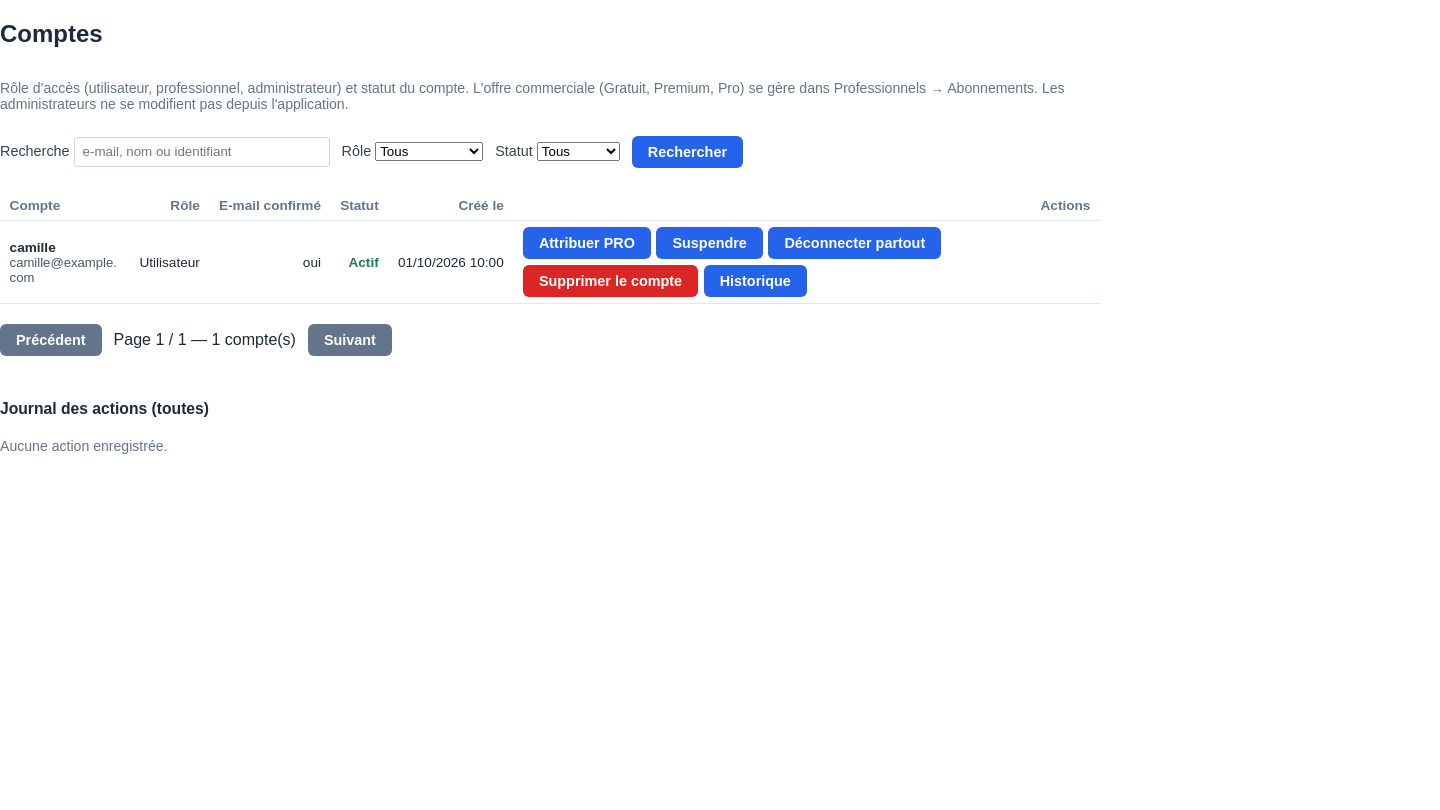
Test case: AdminAccountsSection › supprime un compte avec un motif et le mot de passe, et déconnecte partout
Click the button "Déconnecter partout": (855, 243) [768, 227, 941, 259]
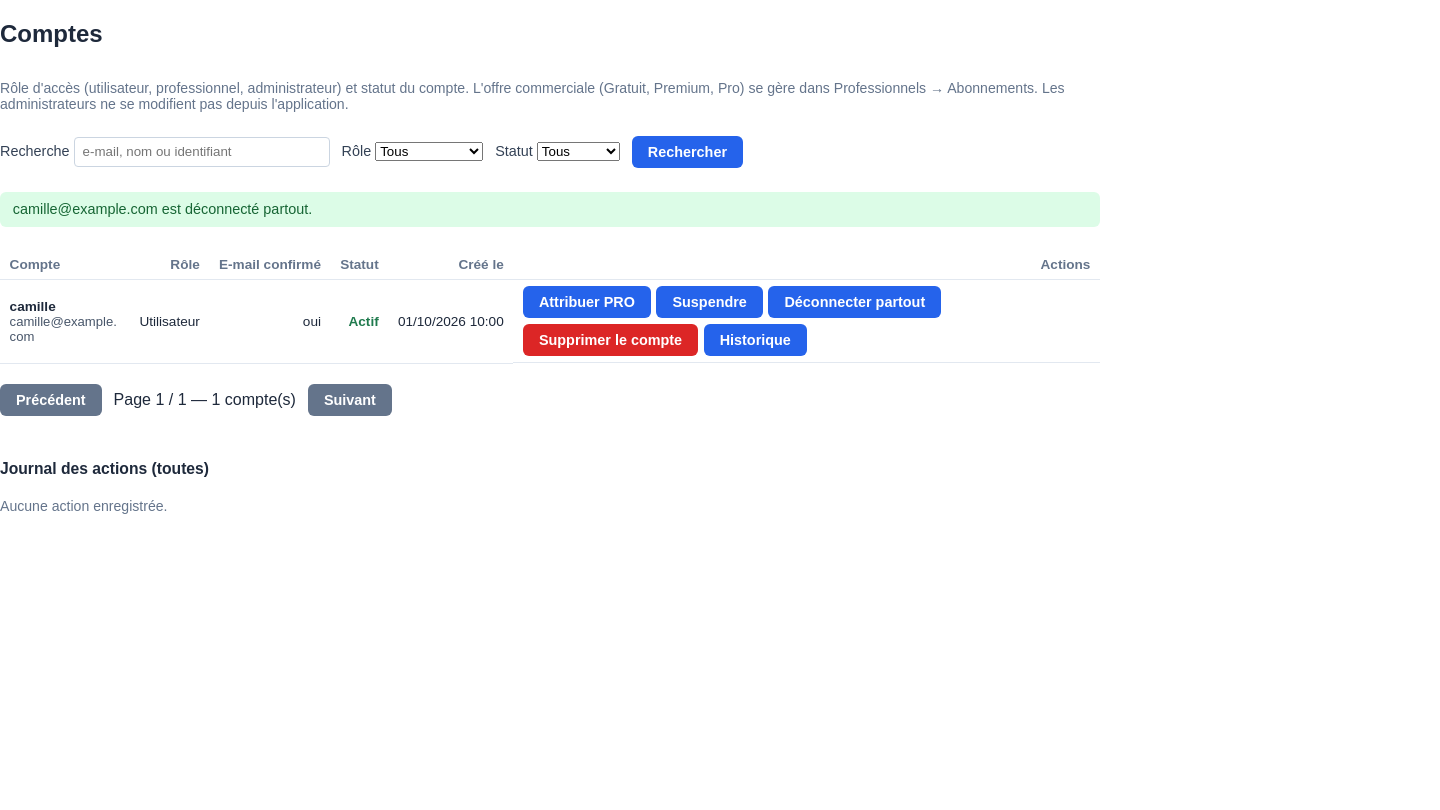
Now the text "camille@example.com est déconnecté partout." is shown, box [0, 192, 1100, 227]
Click the button "Supprimer le compte": (610, 340) [523, 324, 698, 356]
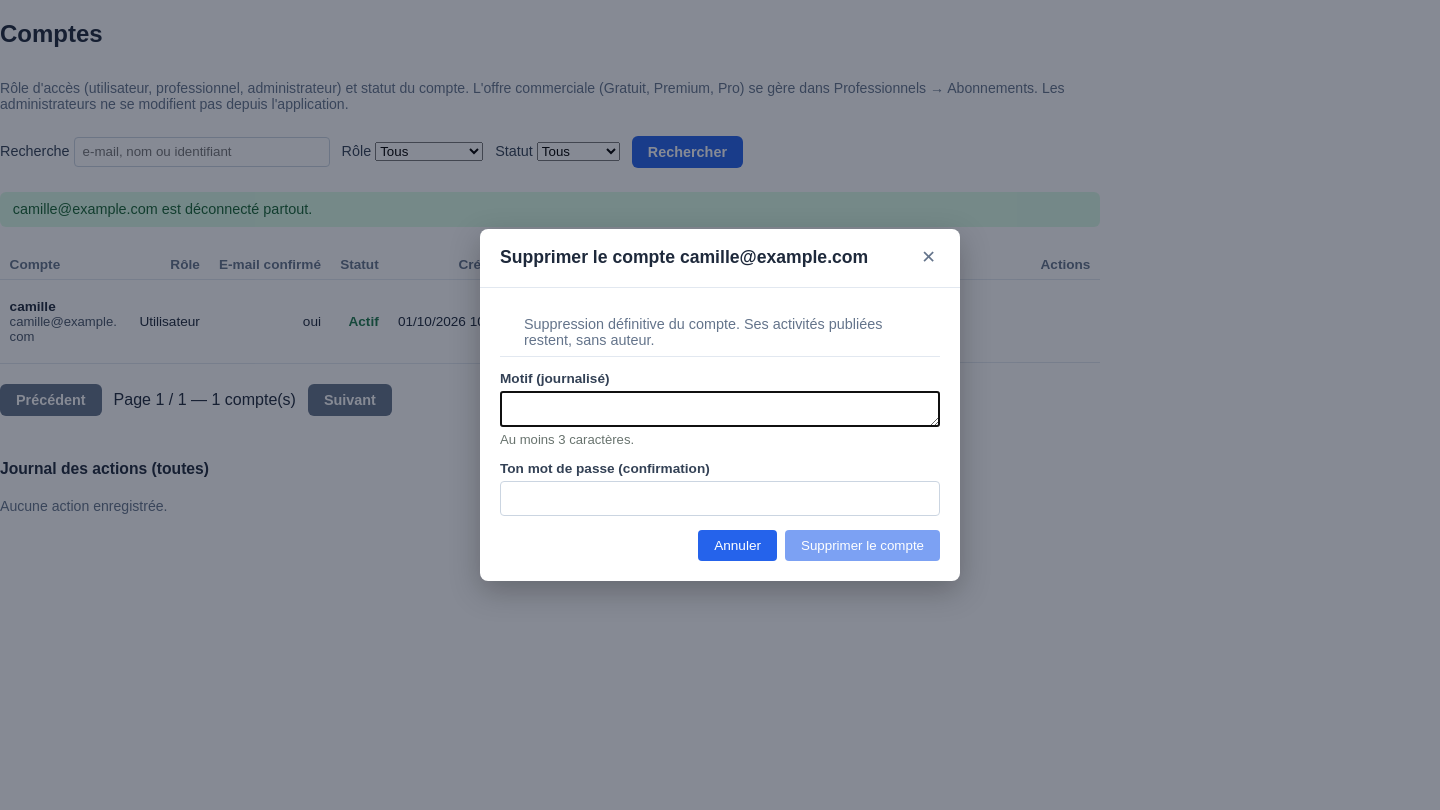
In the text box labelled "Motif (journalisé)": (720, 409) [500, 391, 940, 427], type "ok"
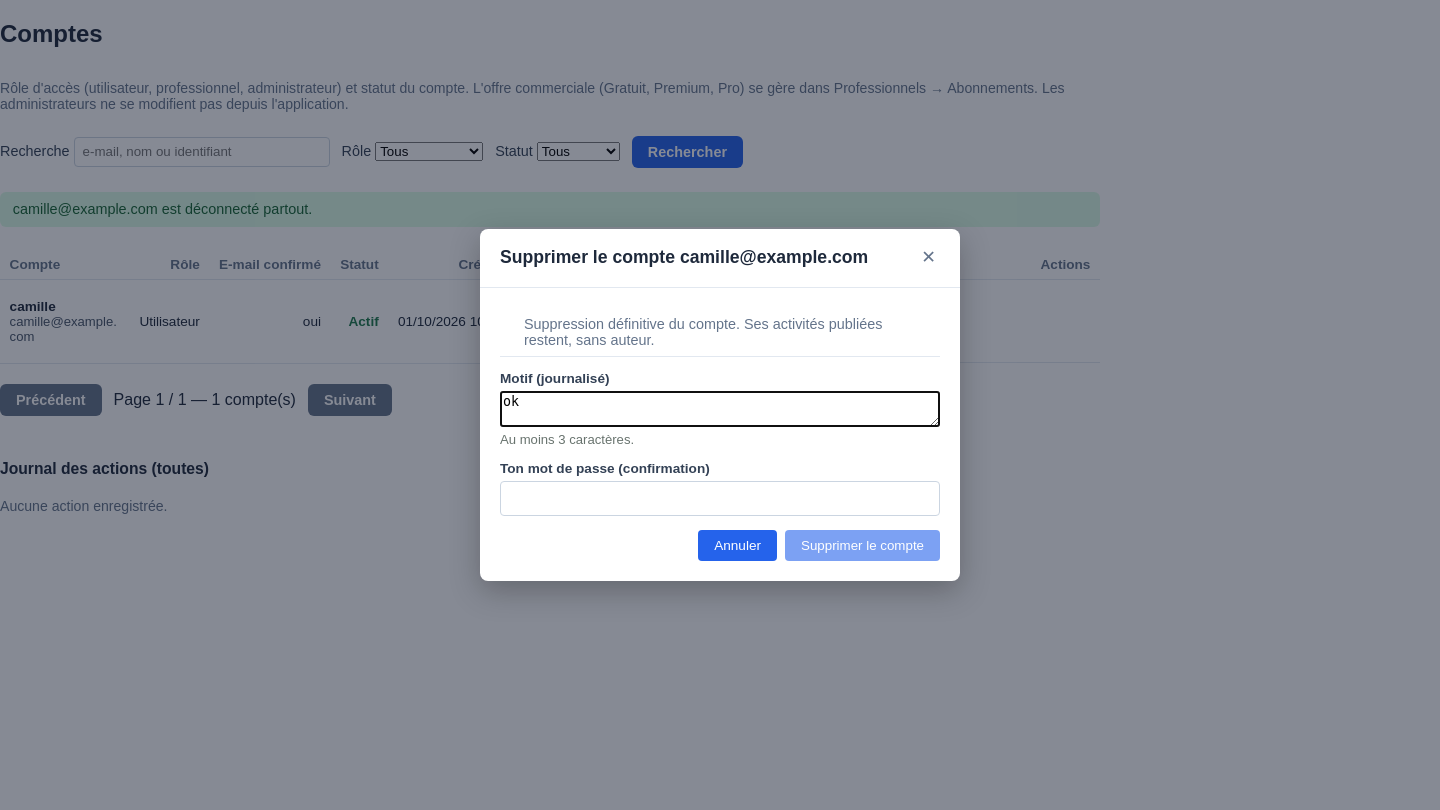
In the password field labelled "Ton mot de passe (confirmation)": (720, 498) [500, 481, 940, 516], type "secret-admin"
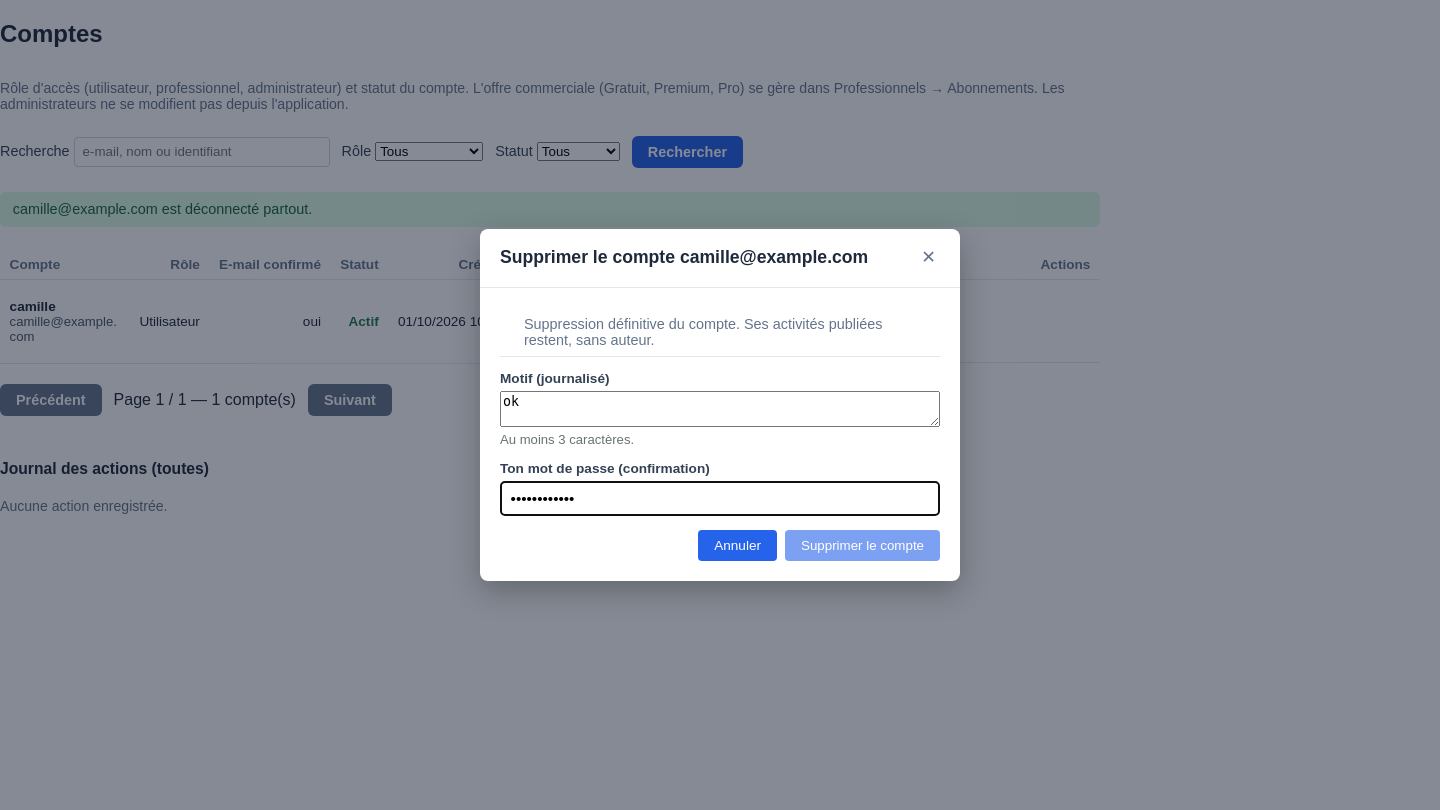
Now the button "Supprimer le compte" is disabled, box [785, 530, 940, 561]
In the text box labelled "Motif (journalisé)": (720, 409) [500, 391, 940, 427], type " fraude"
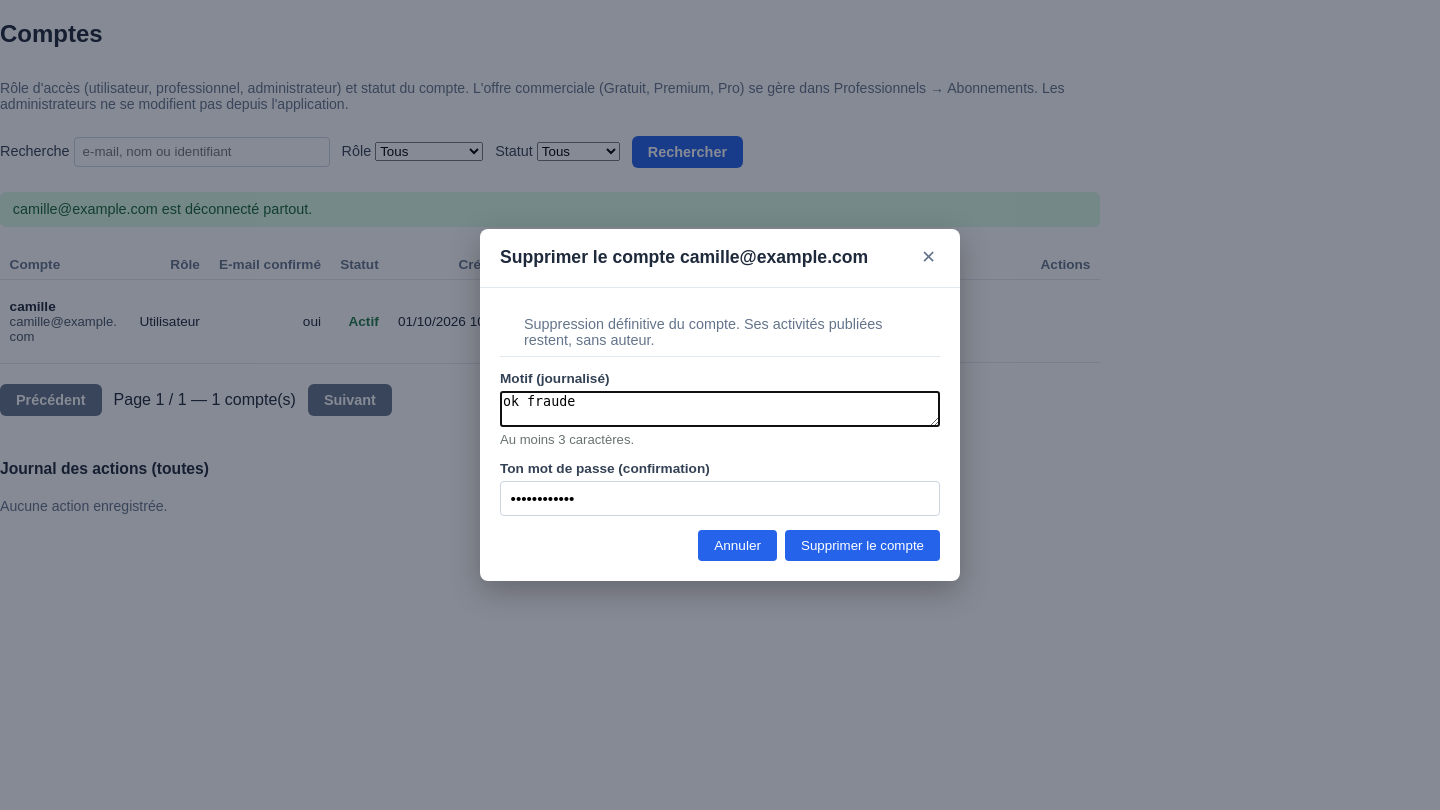
Click the button "Supprimer le compte": (862, 546) [785, 530, 940, 561]
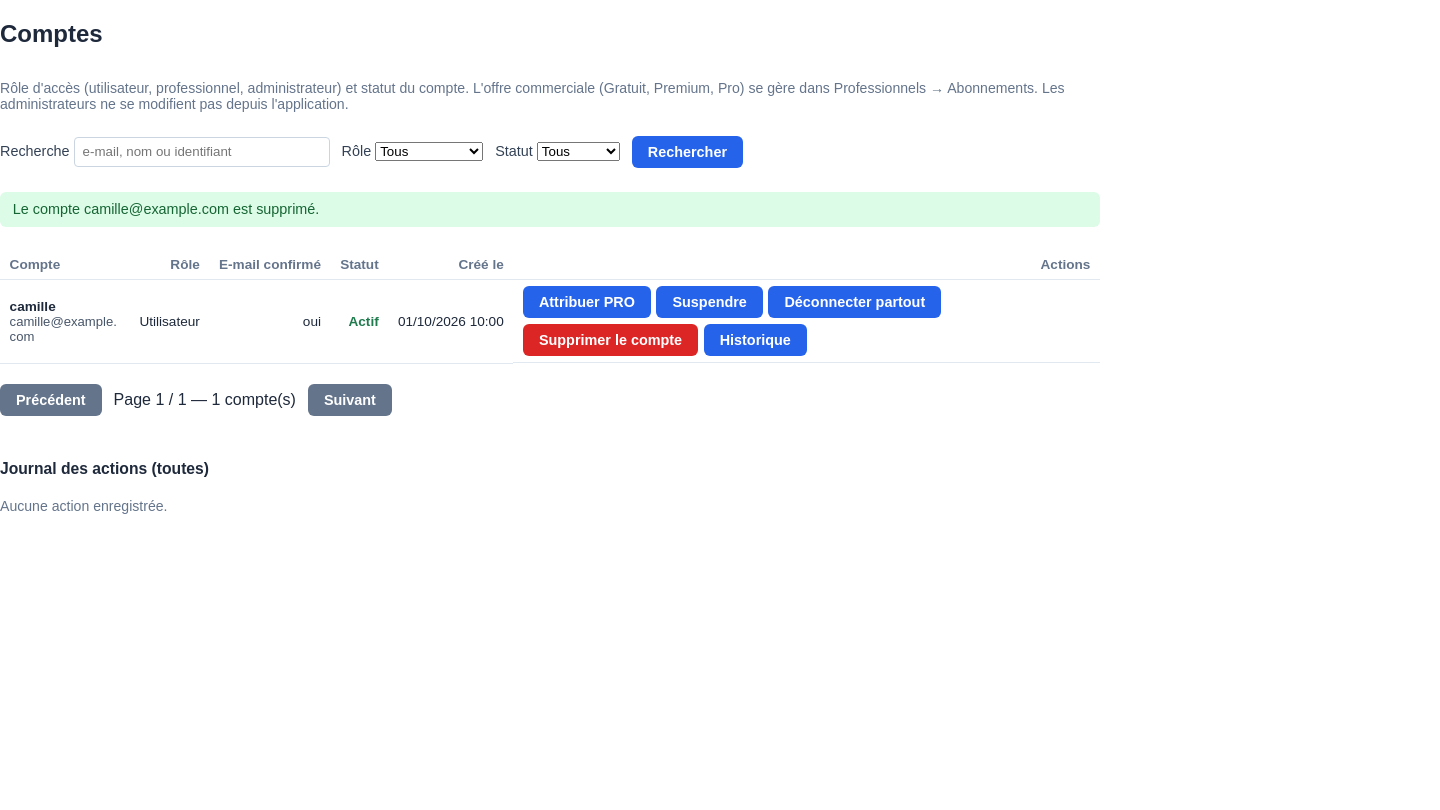
Now the text "Le compte camille@example.com est supprimé." is shown, box [0, 192, 1100, 227]
